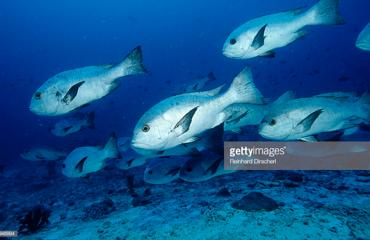Lutjanidae -Snappers-: (130, 61, 269, 152), (27, 41, 152, 118), (217, 0, 351, 59), (51, 126, 129, 184)
